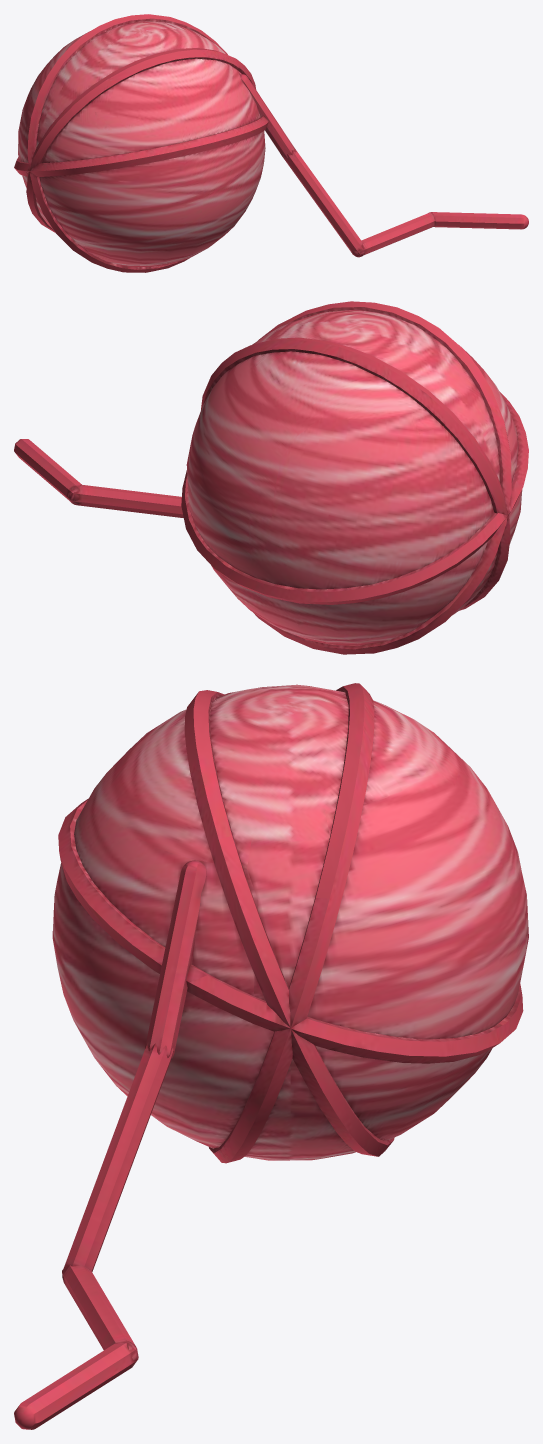
Rendered from ball.glb.
3 views of the same model, one above another, from view 1: azimuth 30°, elevation 25°; view 2: azimuth 150°, elevation 25°; view 3: azimuth 270°, elevation 25° (orthographic). The views are drawn at different scales.
Parts seen in each view (by area): view 1: ball; view 2: ball; view 3: ball.
Part boxes in pixels (x1,y1,x2,y2): ball: (14,14,528,272); ball: (14,301,528,654); ball: (14,683,528,1429).
Size of the model in its own units: 0.2246 by 0.112 by 0.1211.
1 material, 1 textured.
